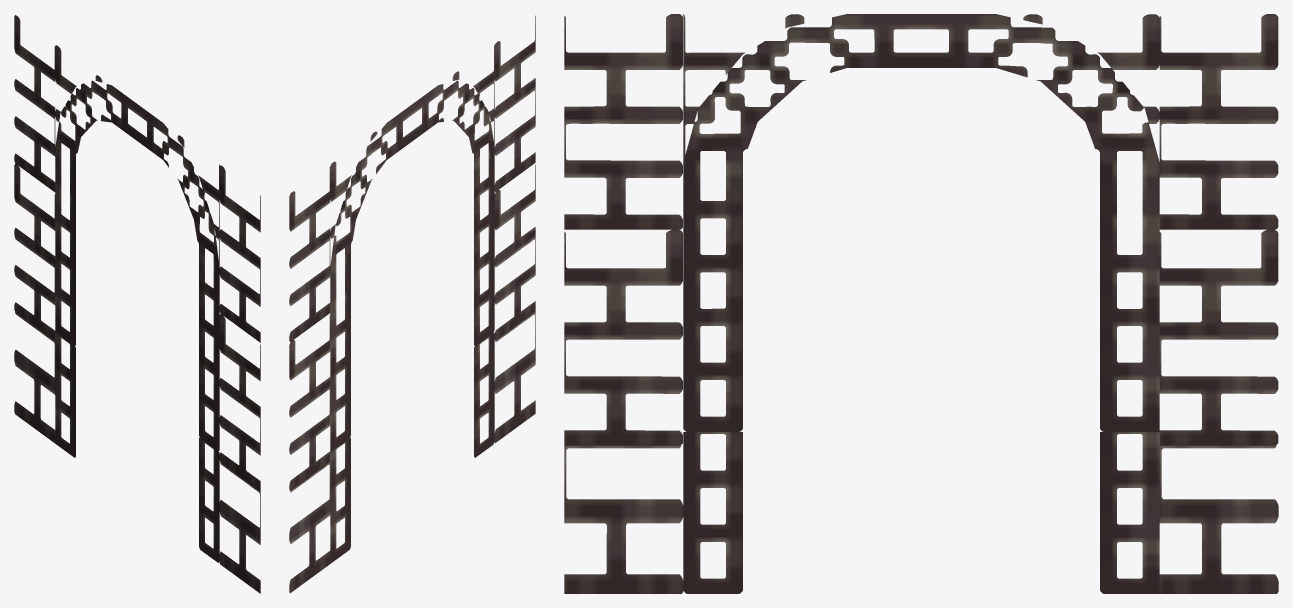
Rendered from ObjMD_Arch_A_3squares.FBX.
3 renders of one model, left to right at view 1: azimuth 30°, elevation 25°; view 2: azimuth 150°, elevation 25°; view 3: azimuth 270°, elevation 25°, orthographic. The views are drawn at different scales.
Parts seen in each view (by area): view 1: ObjMD_Arch_A_3squares; view 2: ObjMD_Arch_A_3squares; view 3: ObjMD_Arch_A_3squares.
Boxes of the visible parts, left/top/right/bottom form: ObjMD_Arch_A_3squares: left=14, top=15, right=260, bottom=593; ObjMD_Arch_A_3squares: left=289, top=15, right=535, bottom=593; ObjMD_Arch_A_3squares: left=564, top=14, right=1278, bottom=593.
Size of the model in its own units: 9.54e-05 by 269 by 300.
